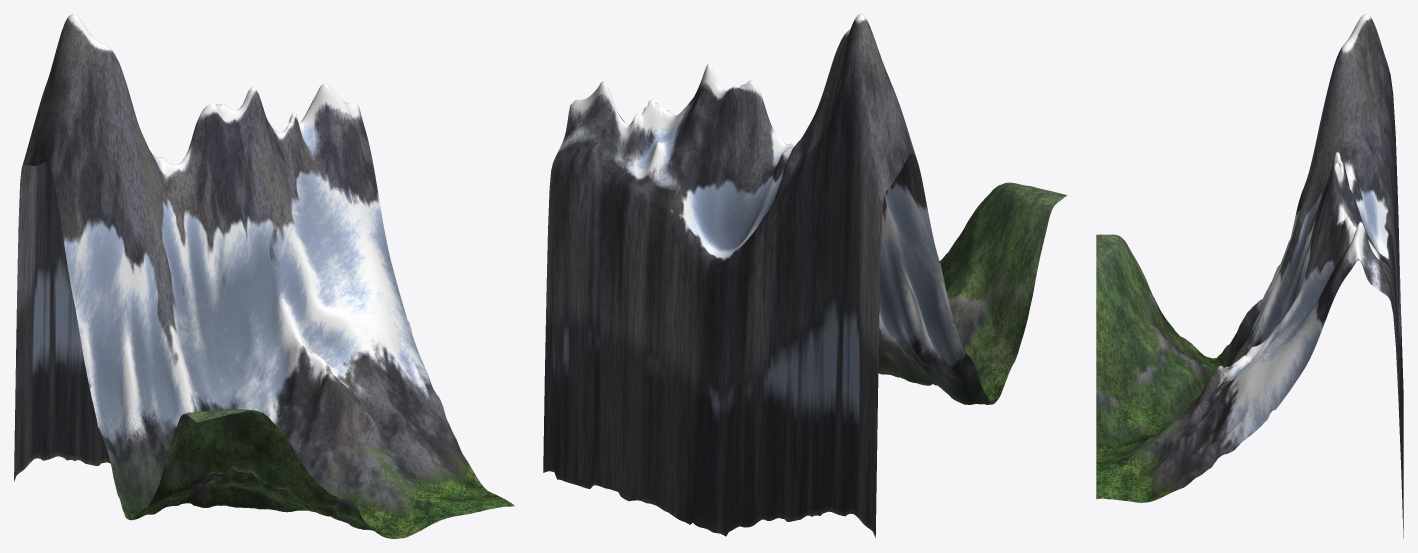
The picture shows the model from 3 angles, left to right: view 1: azimuth 30°, elevation 25°; view 2: azimuth 150°, elevation 25°; view 3: azimuth 270°, elevation 25°; orthographic projection. The views are drawn at different scales.
Visible parts, largest first — view 1: t128_192; view 2: t128_192; view 3: t128_192.
Boxes of the visible parts, x1=… form: t128_192: x1=14, y1=14, x2=514, y2=538; t128_192: x1=543, y1=14, x2=1067, y2=537; t128_192: x1=1096, y1=14, x2=1403, y2=538.
Bounding box in the file's own units: 64 × 97.87 × 64.
Materials: 1 (1 with a texture image).
